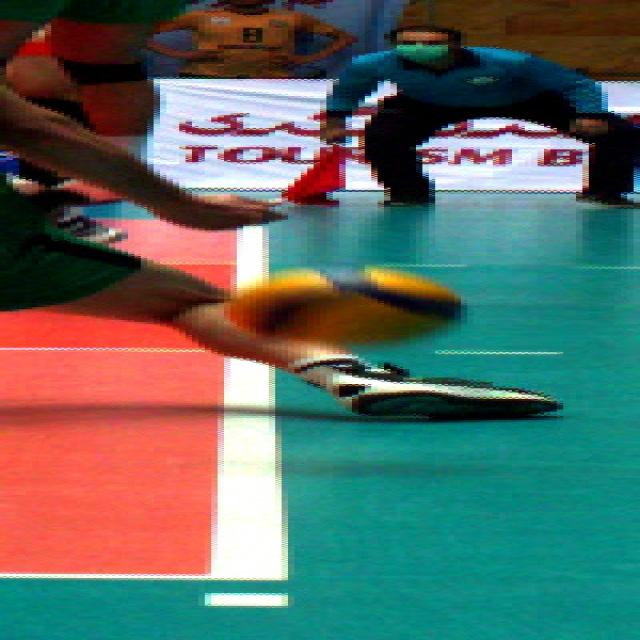Volleyball: (235, 266, 462, 347)
